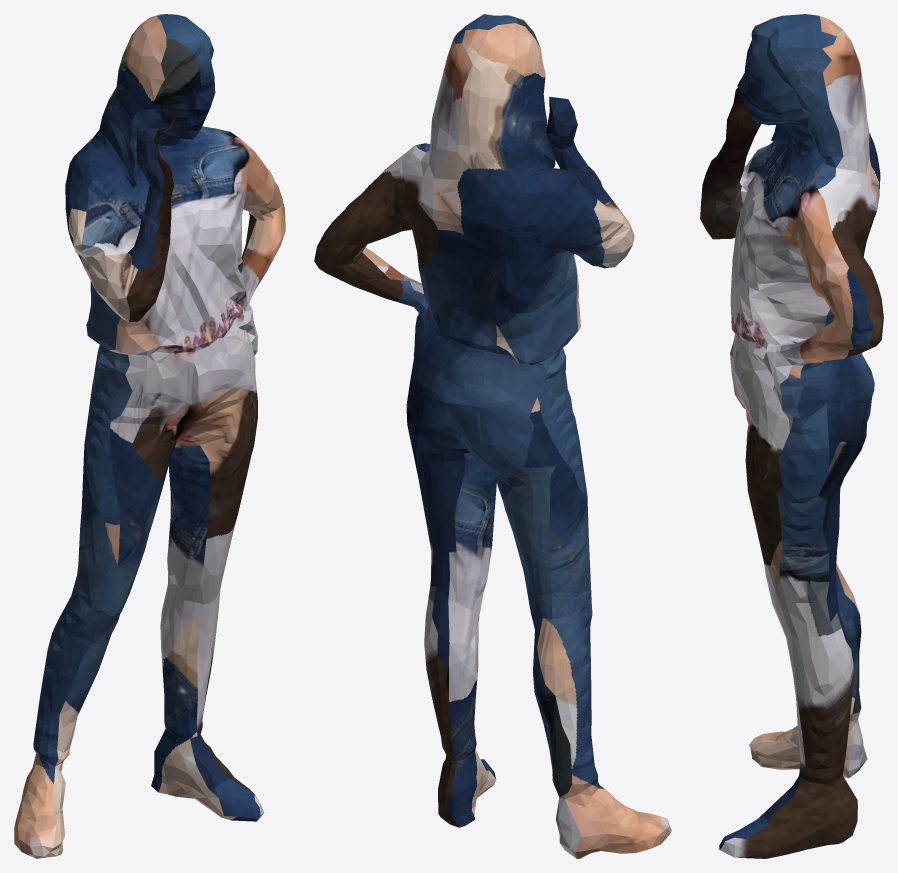
The model's file is girl_11.glb.
3 views of the same model, side by side, from view 1: azimuth 30°, elevation 25°; view 2: azimuth 150°, elevation 25°; view 3: azimuth 270°, elevation 25° (orthographic). The views are drawn at different scales.
Visible parts, largest first — view 1: girl_11; view 2: girl_11; view 3: girl_11.
Boxes of the visible parts, bbox=[...] form: girl_11: bbox=[14, 14, 285, 858]; girl_11: bbox=[314, 14, 671, 858]; girl_11: bbox=[700, 14, 883, 858].
Bounding box in the file's own units: 0.6401 × 1.61 × 0.3293.
1 material, 1 textured.
